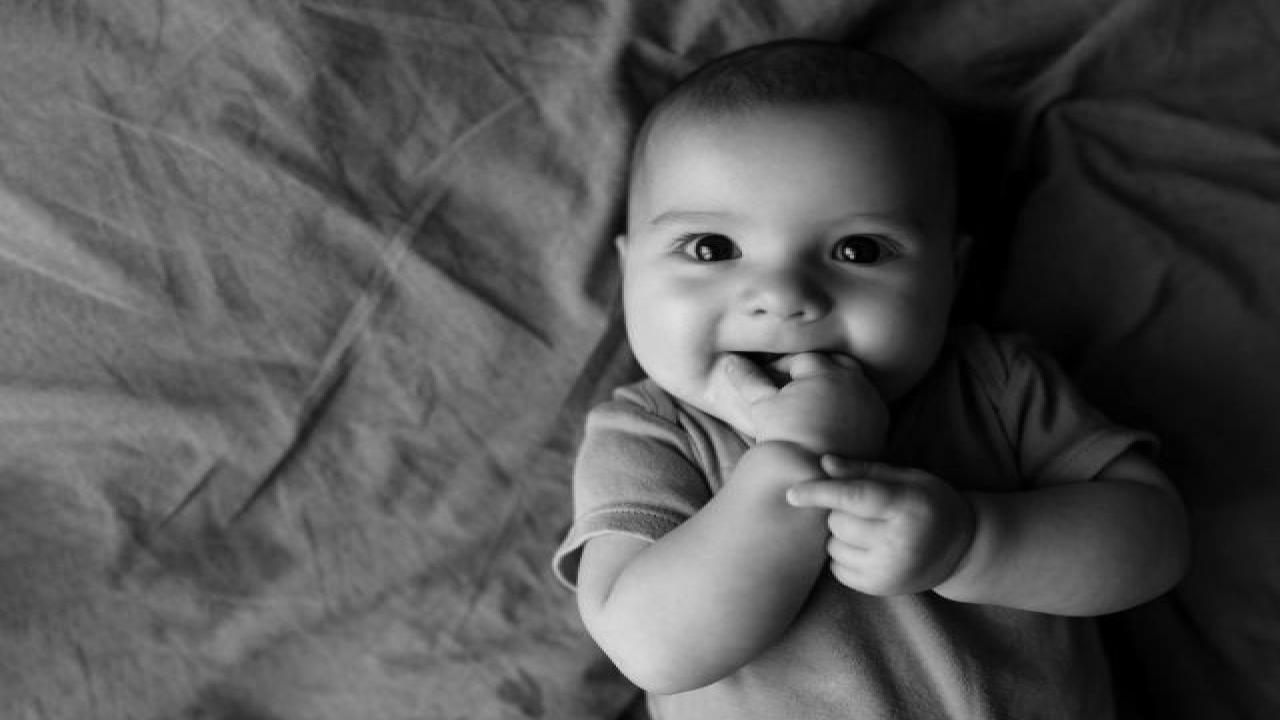hand: (784, 451, 976, 598), (724, 352, 889, 456)
